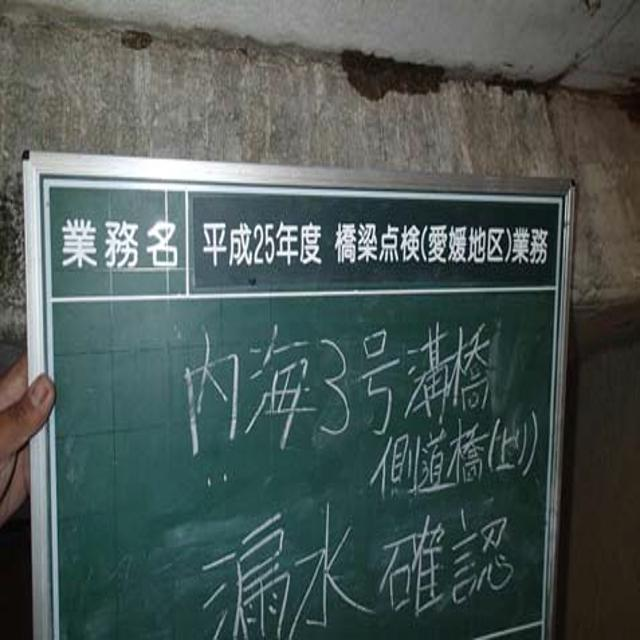leakage: (341, 39, 576, 127)
